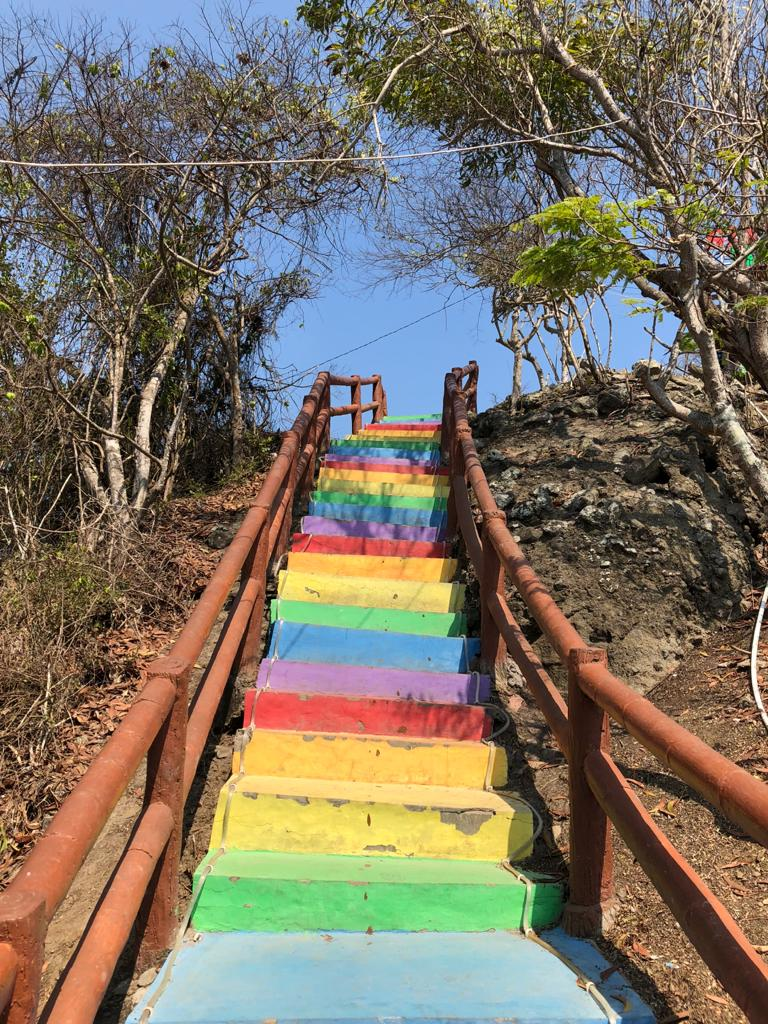upstairs: (235, 683, 553, 1006)
